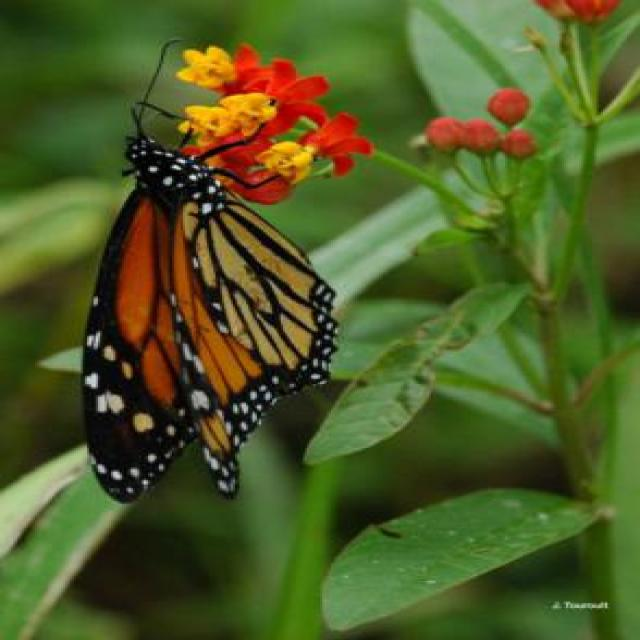antennae: (102, 36, 198, 139)
body: (118, 134, 230, 208)
insect: (78, 31, 338, 502)
legs: (184, 87, 308, 198)
wings: (82, 192, 341, 497)
